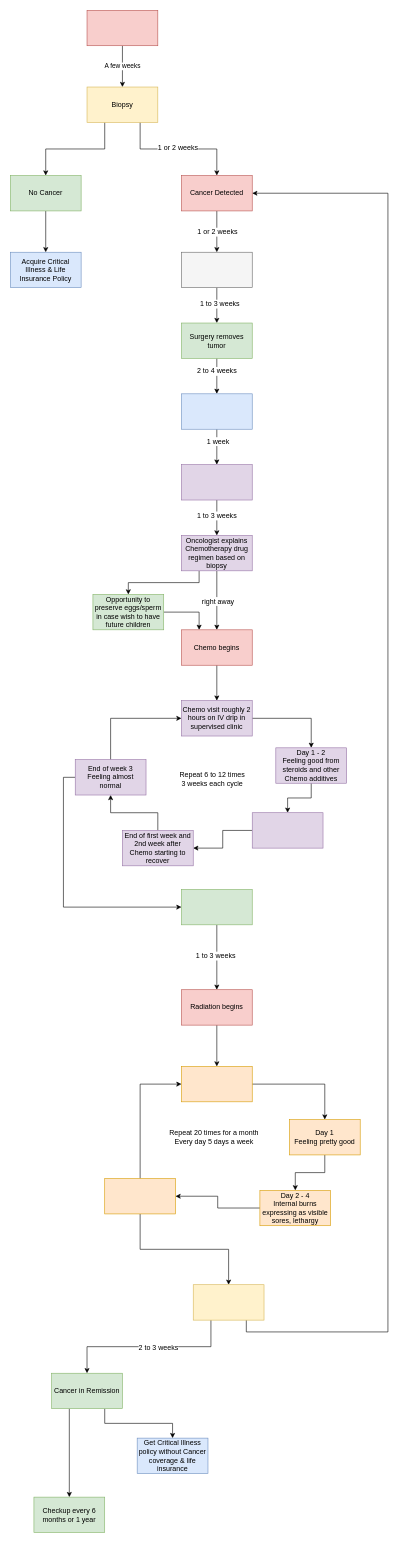
The diagram is 403 pixels wide and 1543 high, and some of its shapes have lost their labels. The shapes that lost their labels are listed below. From the top down, each one's box as (x1, y1, x2, y2) in pixels, then its label:
(86, 10, 158, 46): Potential Tumour Detected
(181, 252, 252, 288): Meet Surgeon Schedule surgery
(181, 393, 252, 429): Recover from Surgery
(181, 464, 252, 500): Meet Oncologist at BC Cancer
(252, 812, 323, 848): Day 3 - 5 Full Chemo effect hits Rashes, trouble sleeping, pain, nausea
(181, 889, 252, 925): Finished Chemo
(181, 1066, 252, 1102): Radiation treatment
(104, 1178, 176, 1214): Day 5 - 7 Healing, still low energy recovering from internal burn wounds
(193, 1284, 264, 1320): Final tests
